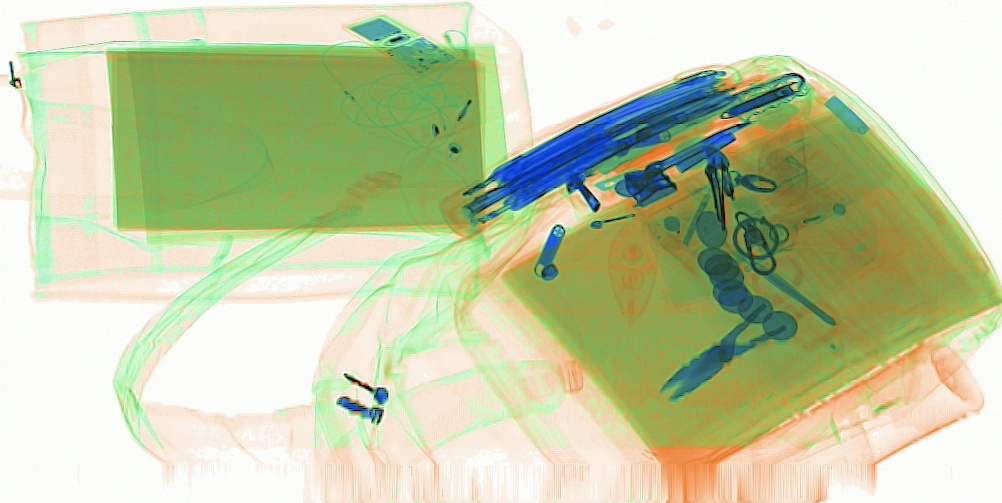scissors: (656, 253, 843, 401)
